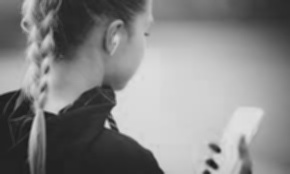earphone: (106, 20, 124, 57)
